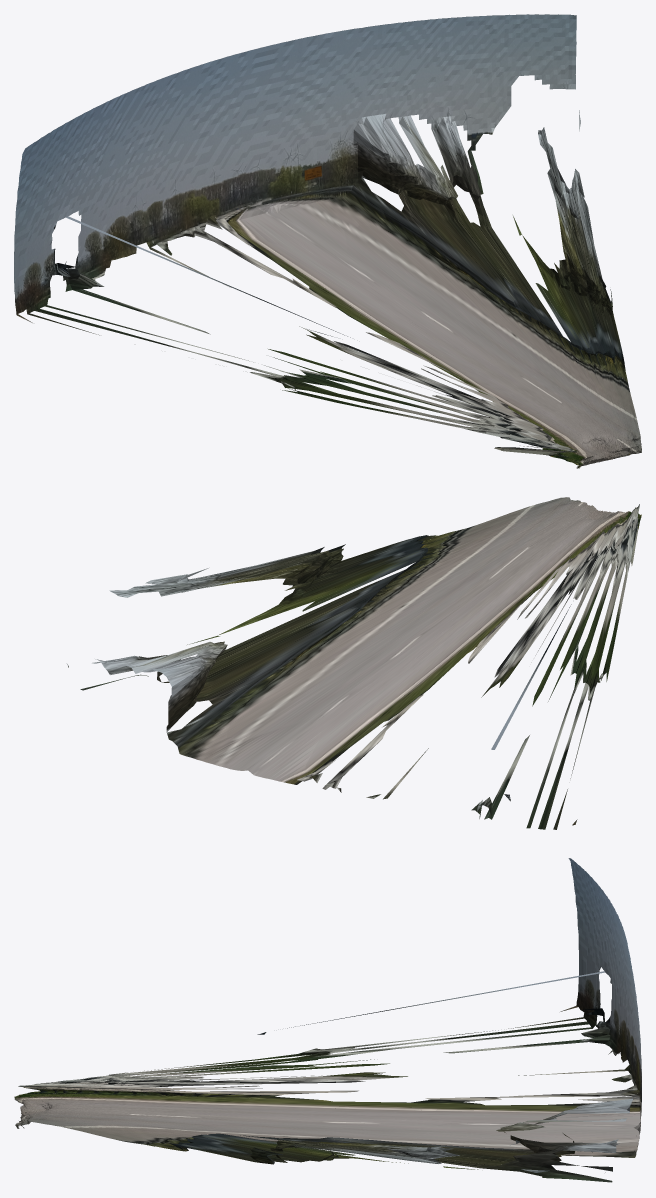
3 renders of one model, top to bottom at view 1: azimuth 30°, elevation 25°; view 2: azimuth 150°, elevation 25°; view 3: azimuth 270°, elevation 25°, orthographic. The views are drawn at different scales.
Visible parts, largest first — view 1: defaultobject; view 2: defaultobject; view 3: defaultobject.
Boxes of the visible parts, x1,y1,x2,y2 form: defaultobject: [14, 14, 641, 468]; defaultobject: [66, 497, 641, 829]; defaultobject: [14, 858, 641, 1182].
Size of the model in its own units: 41.11 by 13.05 by 44.58.
Materials: 1 (1 with a texture image).
